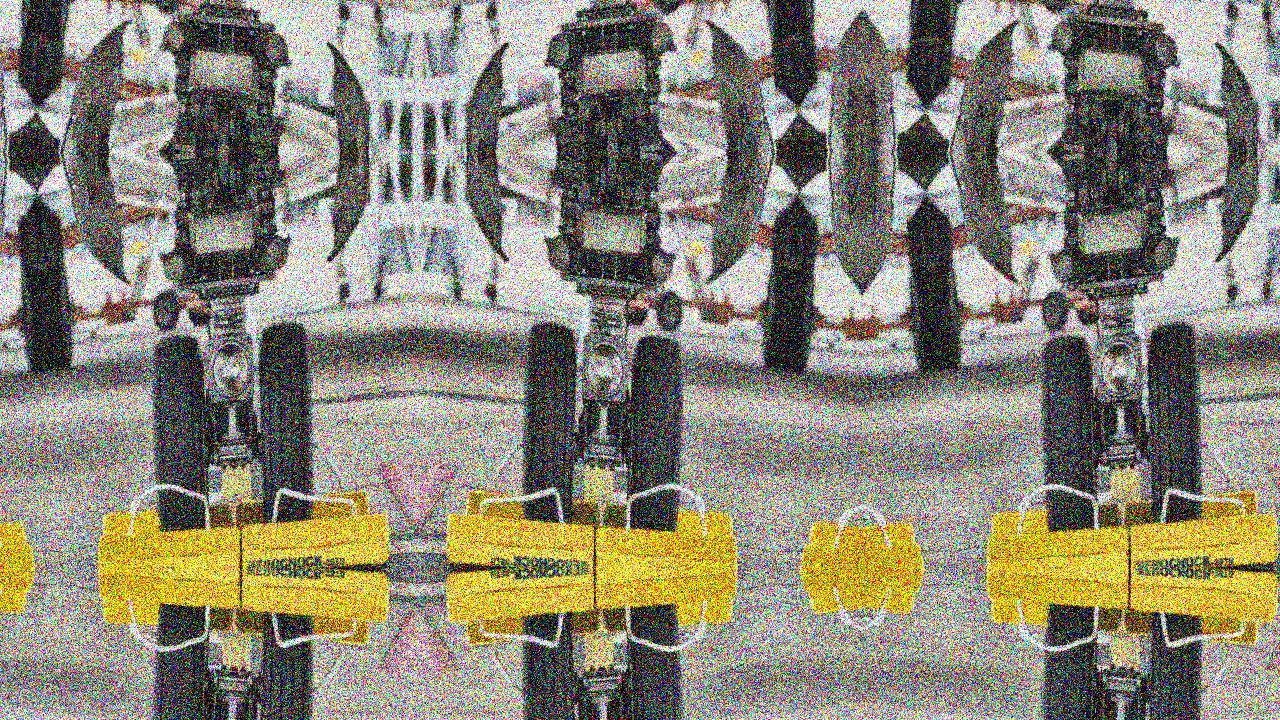chock: (437, 505, 601, 568), (437, 568, 601, 631), (235, 505, 398, 568), (235, 568, 398, 631), (1124, 505, 1280, 568), (1124, 568, 1280, 631), (980, 517, 1137, 568), (980, 568, 1137, 619), (91, 517, 247, 568), (588, 517, 744, 568), (91, 568, 247, 619), (588, 568, 744, 619), (232, 483, 376, 534), (460, 483, 604, 534), (1121, 483, 1265, 534), (232, 602, 376, 653), (460, 602, 604, 653), (1121, 602, 1265, 653), (598, 494, 738, 546), (987, 494, 1127, 546), (598, 590, 738, 642), (987, 590, 1127, 642), (98, 494, 237, 546), (98, 590, 237, 642), (862, 516, 919, 564), (862, 572, 919, 620), (806, 516, 862, 564), (806, 572, 862, 620), (0, 516, 29, 564), (0, 572, 29, 620)
wheel: (234, 318, 338, 527), (497, 318, 601, 527), (1124, 318, 1228, 527), (605, 330, 703, 534), (133, 330, 230, 534), (1022, 330, 1119, 534), (605, 602, 703, 720), (234, 609, 338, 720), (497, 609, 601, 720), (1124, 609, 1228, 720), (133, 602, 230, 720), (1022, 602, 1119, 720), (40, 273, 80, 367), (755, 273, 795, 367), (14, 276, 53, 370), (782, 276, 821, 370), (930, 273, 969, 367), (904, 276, 943, 370), (149, 289, 182, 331), (654, 289, 687, 331), (1038, 289, 1071, 331), (40, 0, 80, 31), (755, 0, 795, 31), (930, 0, 969, 31), (14, 0, 53, 28), (782, 0, 821, 28), (904, 0, 943, 28), (1075, 304, 1099, 326), (186, 304, 209, 326), (626, 304, 649, 326), (149, 0, 182, 15), (654, 0, 687, 15), (1038, 0, 1071, 15)
